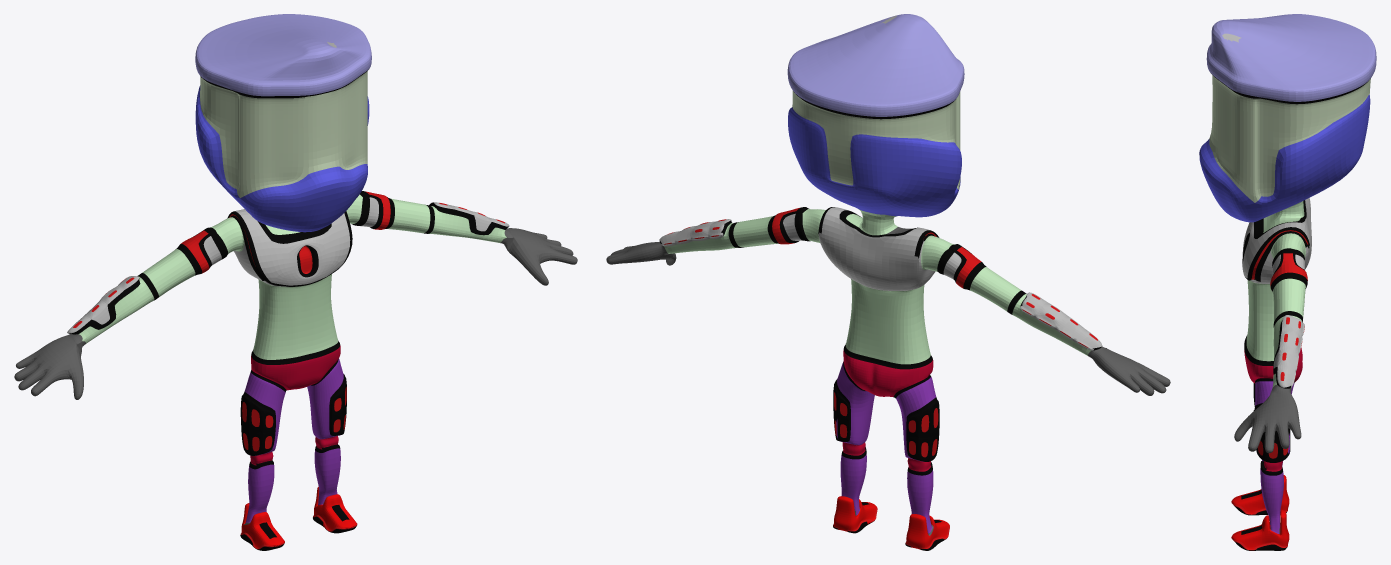
Rendered from Unwrap + materiales(Detailed).fbx.
3 views of the same model, side by side, from view 1: azimuth 30°, elevation 25°; view 2: azimuth 150°, elevation 25°; view 3: azimuth 270°, elevation 25° (orthographic).
Parts seen in each view (by area): view 1: Cuerpo 100%; view 2: Cuerpo 100%; view 3: Cuerpo 100%.
Boxes of the visible parts, x1=… form: Cuerpo 100%: x1=14, y1=14, x2=577, y2=550; Cuerpo 100%: x1=606, y1=14, x2=1170, y2=550; Cuerpo 100%: x1=1199, y1=14, x2=1376, y2=550.
Bounding box in the file's own units: 70.61 × 60.94 × 19.44.
